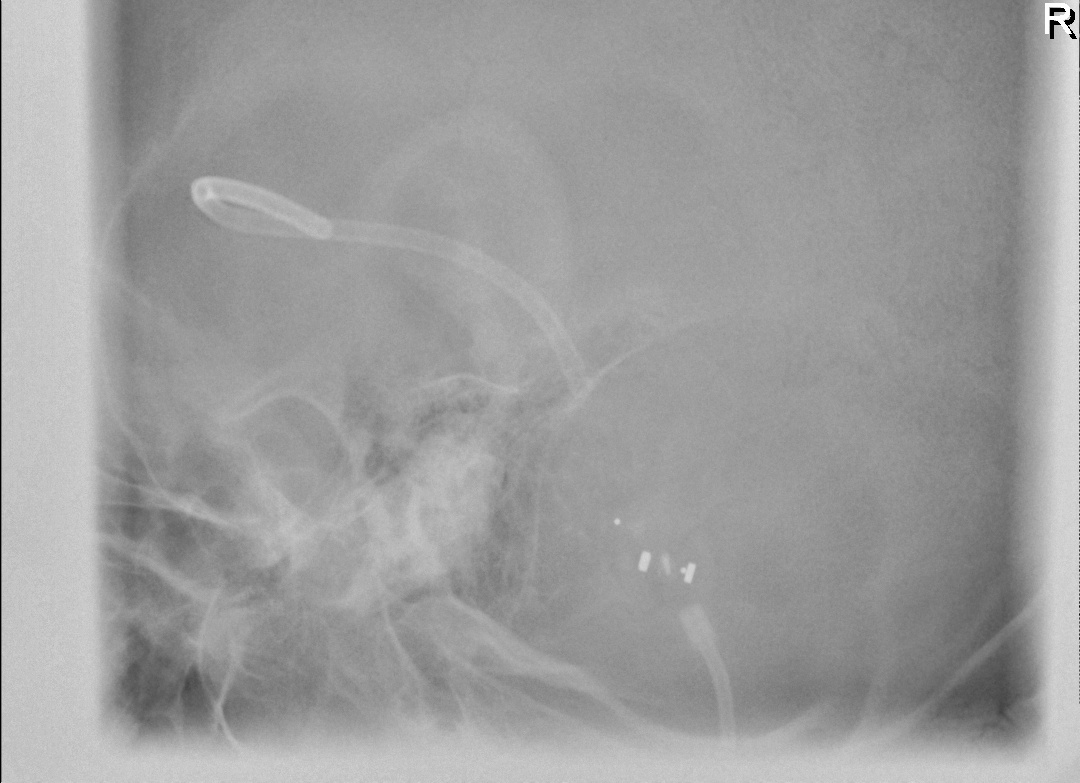Codman Certas: (591, 504, 711, 594)
